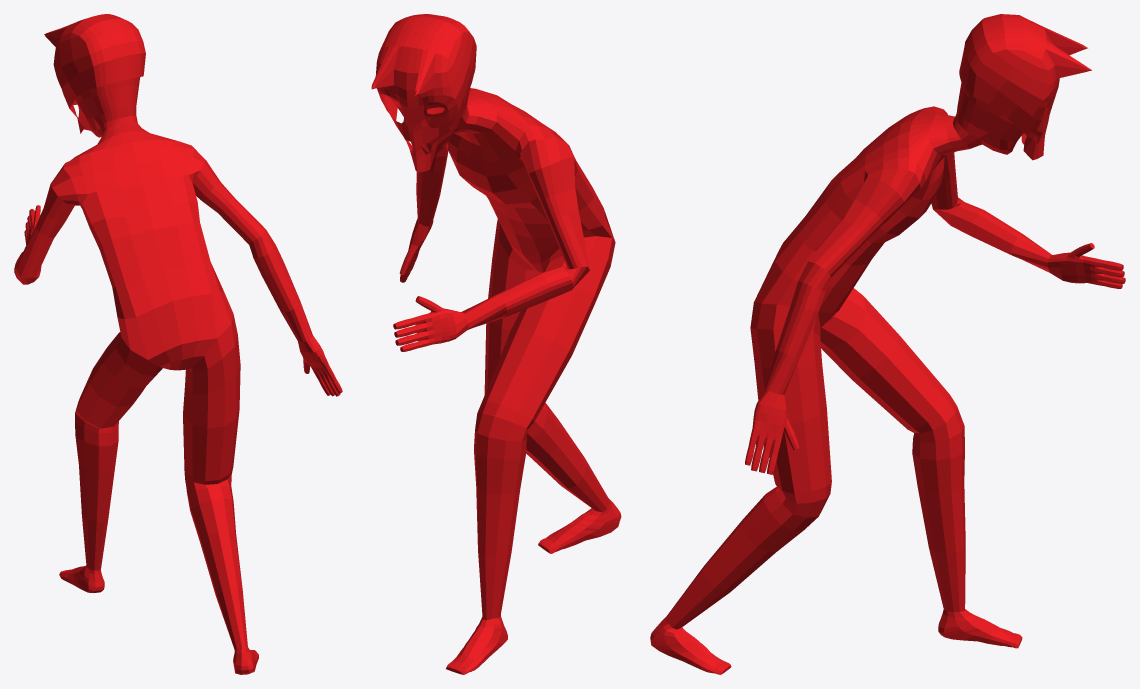
File: saltoadelanteE_000156.obj
3 views of the same model, side by side, from view 1: azimuth 30°, elevation 25°; view 2: azimuth 150°, elevation 25°; view 3: azimuth 270°, elevation 25° (orthographic). The views are drawn at different scales.
Visible parts, largest first — view 1: Plane.002_Plane.001; view 2: Plane.002_Plane.001; view 3: Plane.002_Plane.001.
Part boxes in pixels (bbox=[...]): Plane.002_Plane.001: bbox=[14, 14, 342, 674]; Plane.002_Plane.001: bbox=[371, 14, 621, 674]; Plane.002_Plane.001: bbox=[650, 14, 1125, 674].
Bounding box in the file's own units: 2.73 × 6 × 4.05.
